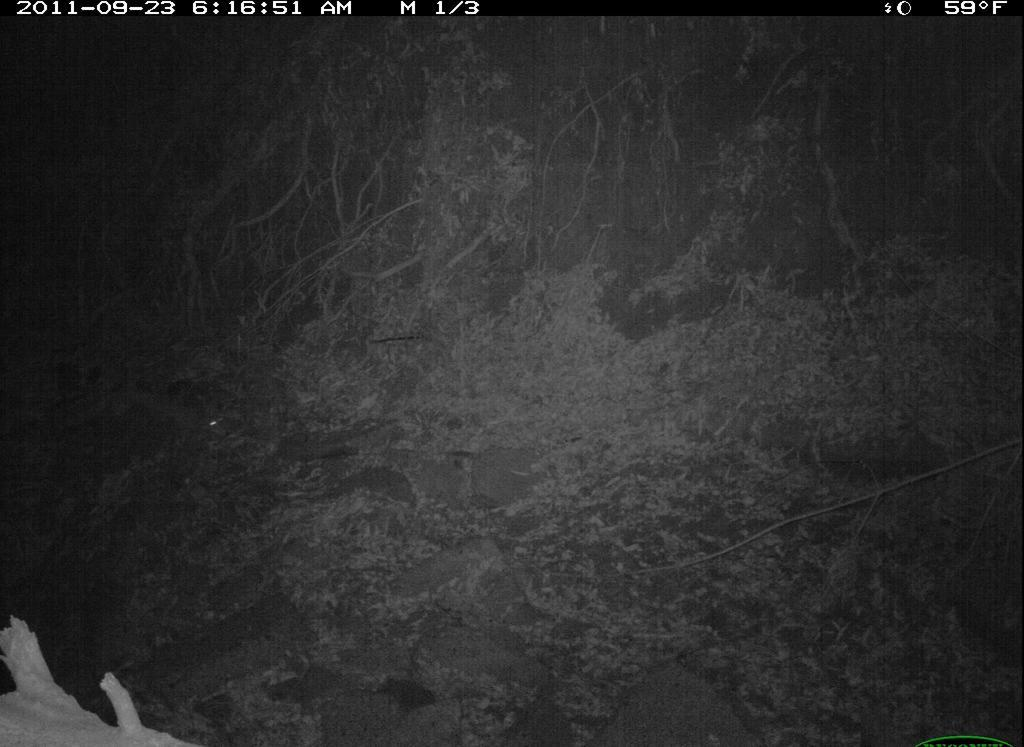coyote: (119, 389, 238, 462)
